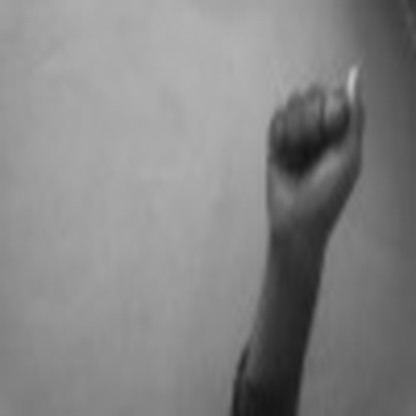a: (259, 54, 369, 246)
